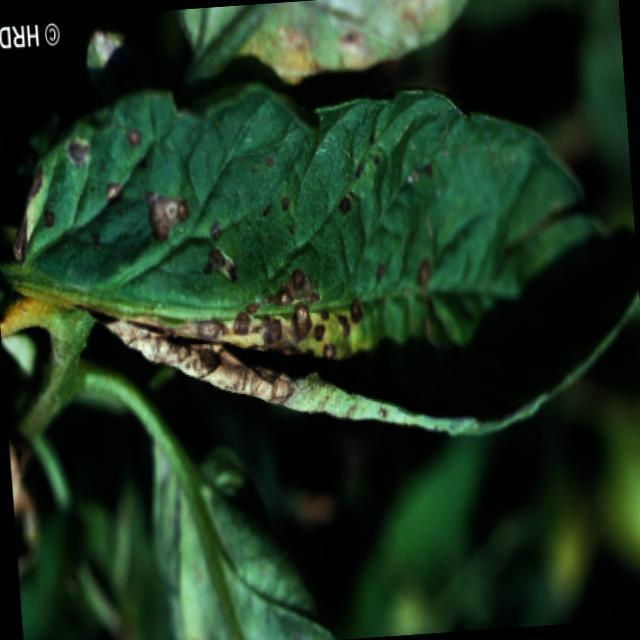Tomato Septoria spot leaf: (2, 45, 640, 475)
